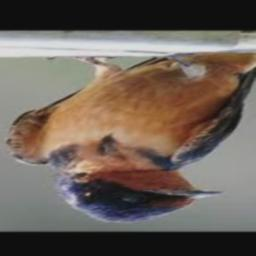Swallow: (4, 53, 256, 225)
